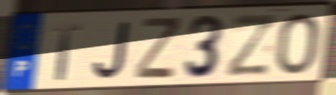3: (182, 13, 227, 81)
J: (91, 19, 133, 82)
O: (274, 11, 322, 77)
T: (50, 22, 84, 82)
Z: (224, 12, 279, 80), (133, 15, 183, 82)
